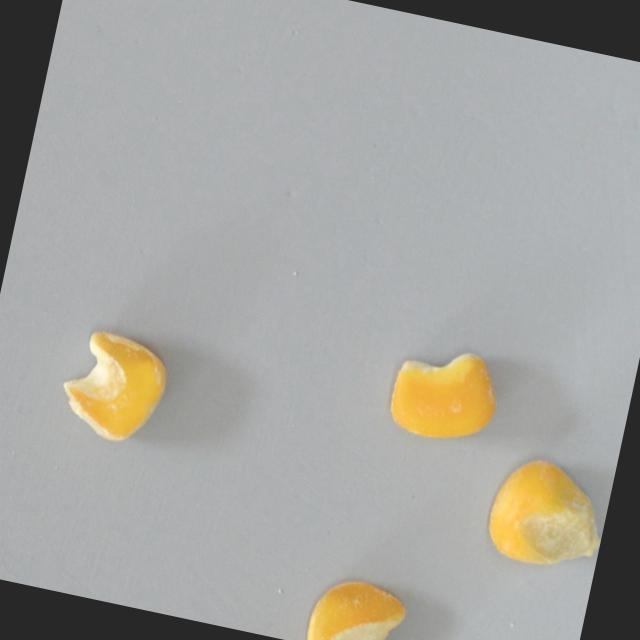entero: (480, 449, 615, 578)
no_canjicado: (383, 336, 508, 451)
pelicula: (52, 322, 174, 450), (305, 571, 420, 640)
